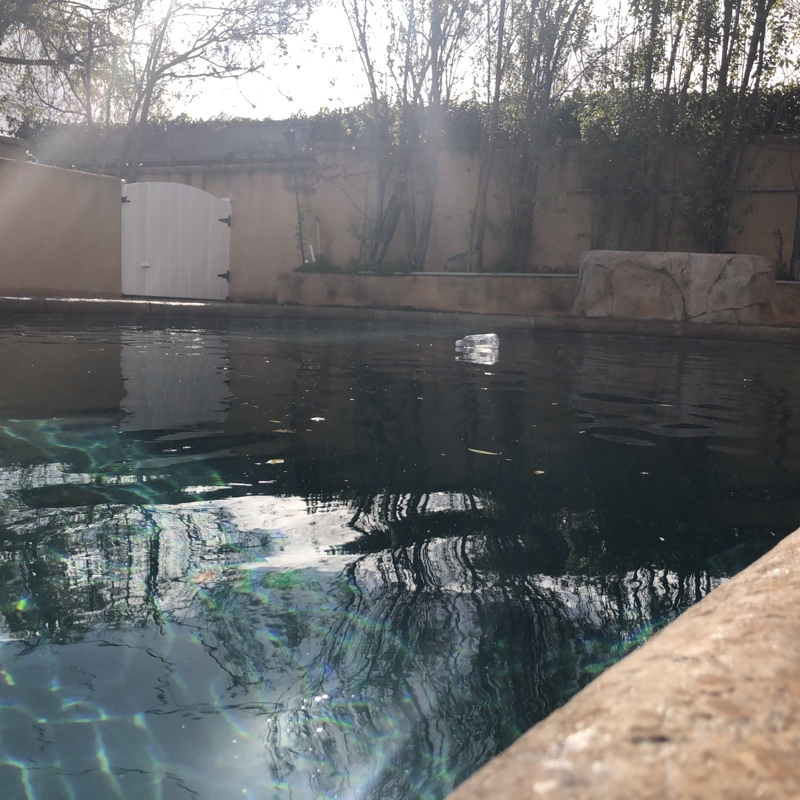Plastic Bottle: (454, 330, 506, 351)
